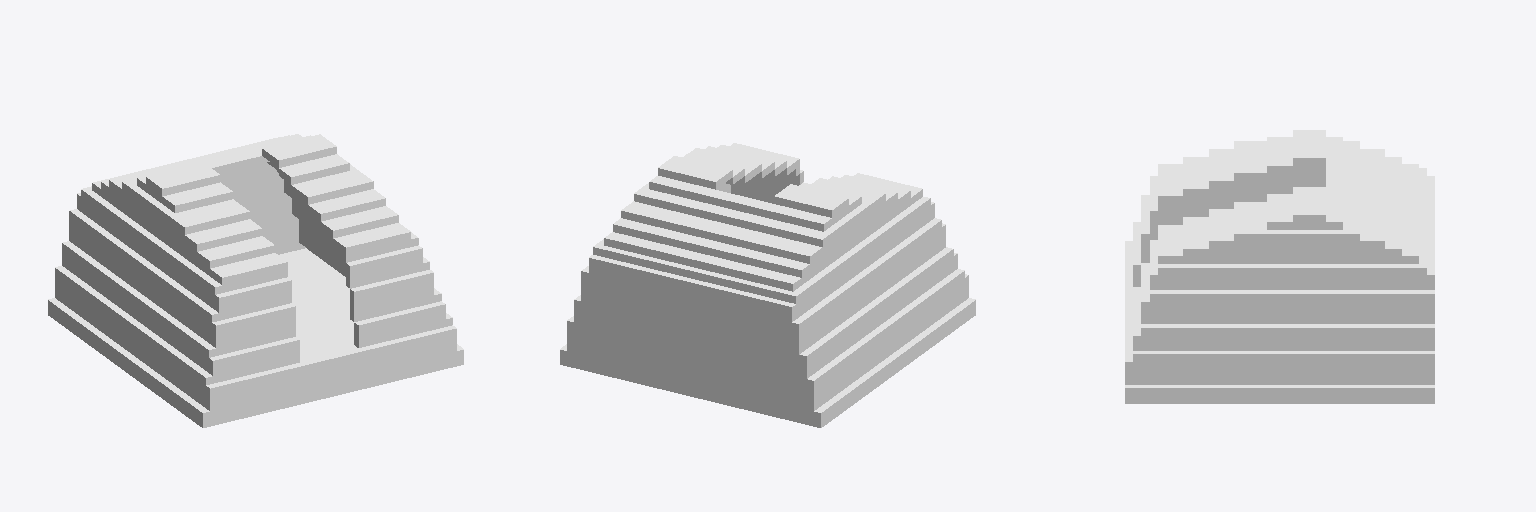
Rendered from Boss-2.obj.
3 renders of one model, left to right at view 1: azimuth 30°, elevation 25°; view 2: azimuth 150°, elevation 25°; view 3: azimuth 270°, elevation 25°, orthographic.
Visible parts, largest first — view 1: Boss-2; view 2: Boss-2; view 3: Boss-2.
Boxes of the visible parts, x1=… form: Boss-2: x1=48, y1=134, x2=463, y2=427; Boss-2: x1=560, y1=143, x2=975, y2=427; Boss-2: x1=1125, y1=130, x2=1434, y2=403.
Bounding box in the file's own units: 36 × 22 × 37.